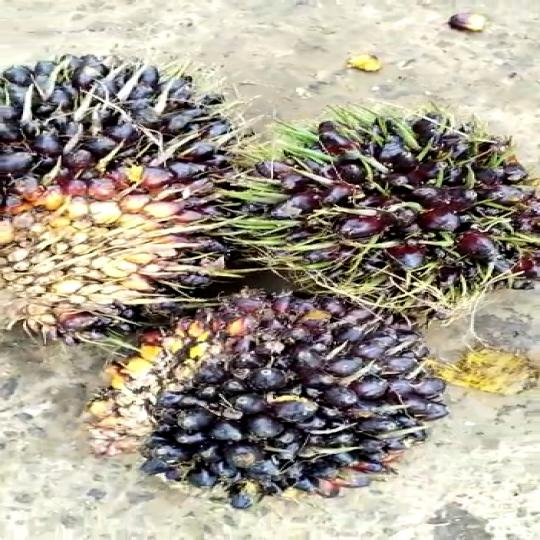mentah: (85, 277, 434, 517), (0, 49, 262, 347), (240, 96, 540, 326)
